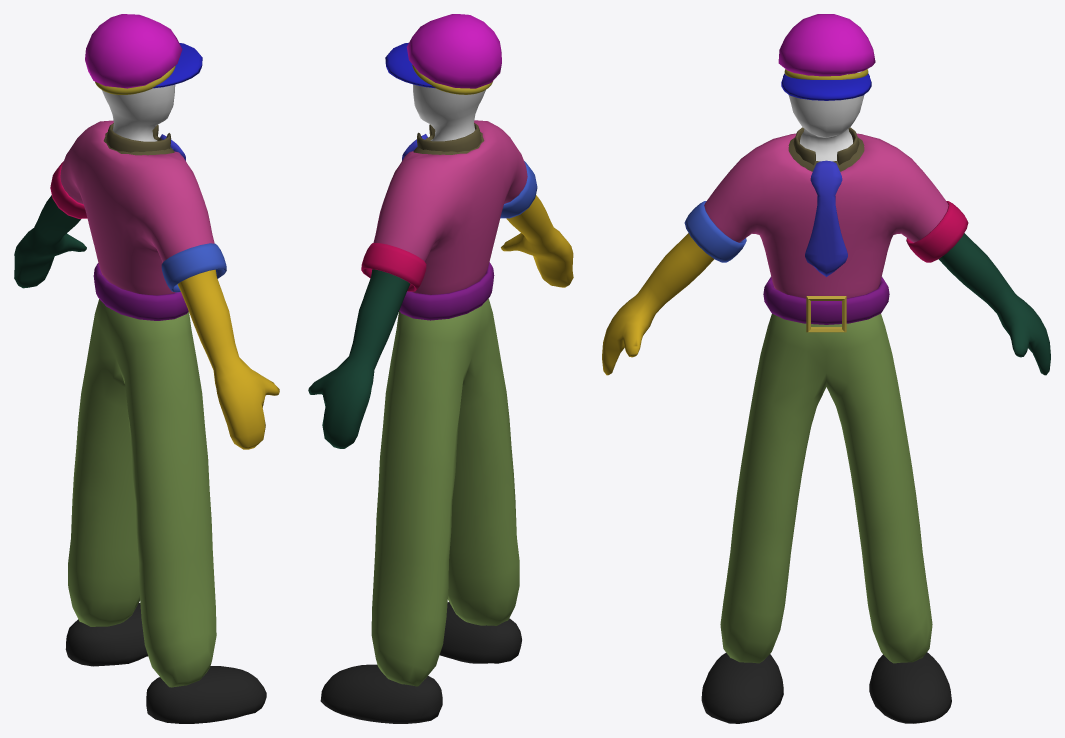
The model's file is Prota.fbx.
3 renders of one model, left to right at view 1: azimuth 30°, elevation 25°; view 2: azimuth 150°, elevation 25°; view 3: azimuth 270°, elevation 25°, orthographic.
Parts seen in each view (by area): view 1: Jersei, Boina; view 2: Jersei, Boina; view 3: Jersei, Boina.
Part boxes in pixels (left/top/right/bottom): Jersei: left=14, top=84, right=279, bottom=723; Boina: left=85, top=14, right=202, bottom=94; Jersei: left=308, top=84, right=573, bottom=723; Boina: left=385, top=14, right=501, bottom=94; Jersei: left=602, top=71, right=1050, bottom=723; Boina: left=778, top=14, right=875, bottom=100.
Bounding box in the file's own units: 13.96 × 70.2 × 42.9.
